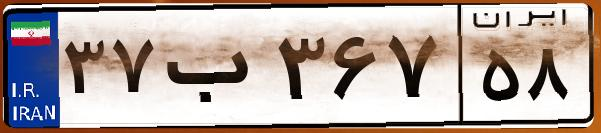3: (270, 28, 330, 110), (57, 26, 110, 100)
5: (475, 38, 525, 113)
6: (330, 28, 385, 110)
7: (385, 28, 445, 110), (110, 28, 158, 98)
8: (525, 38, 570, 115)
ب: (158, 20, 270, 120)
